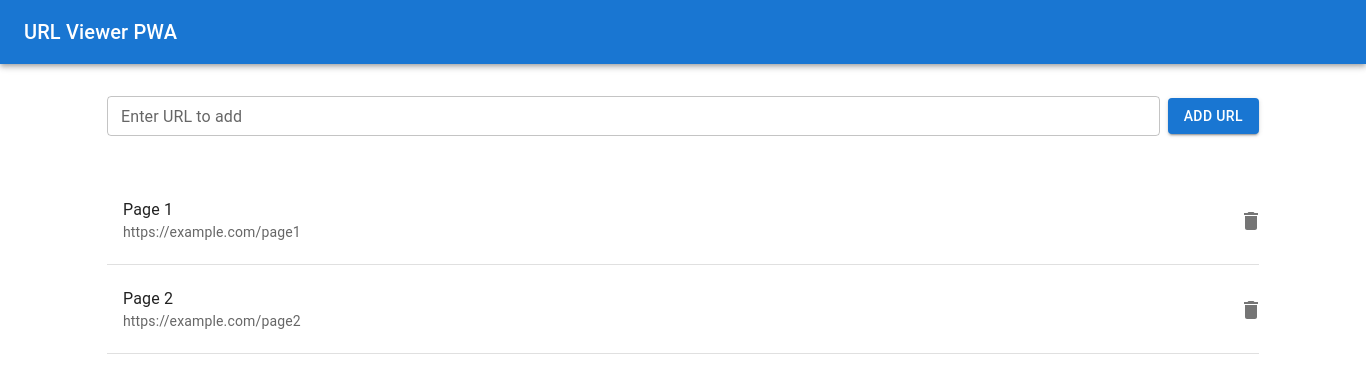
it: App component › renders app title and can add and delete a URL
Expected: the text "URL Viewer PWA" is shown, [24,20,177,44]
Expected: the text "Page 1" is shown, [123,200,173,219]
Step 1. Click the 1st button named "delete url" → [1251, 220], box [1231,200,1271,240]
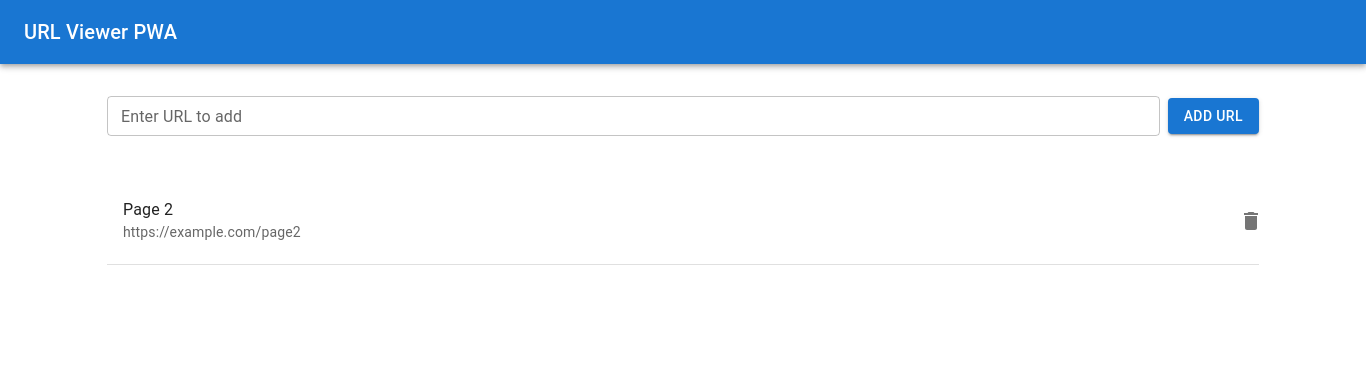
Expected: the text "https://example.com/page2" is shown, [123,224,301,240]
Now the button "Page 1" is gone
Step 2. Type "https://example.com/newpage" into the field labelled "Enter URL to add" → [633, 116], box [107,96,1160,136]
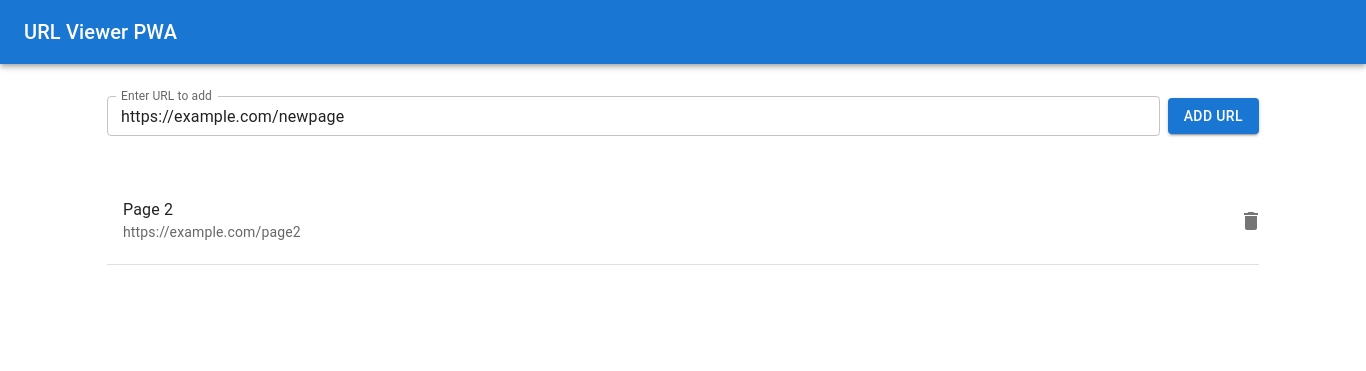
Step 3. Click the button "Add URL" → [1213, 116], box [1168,98,1259,134]
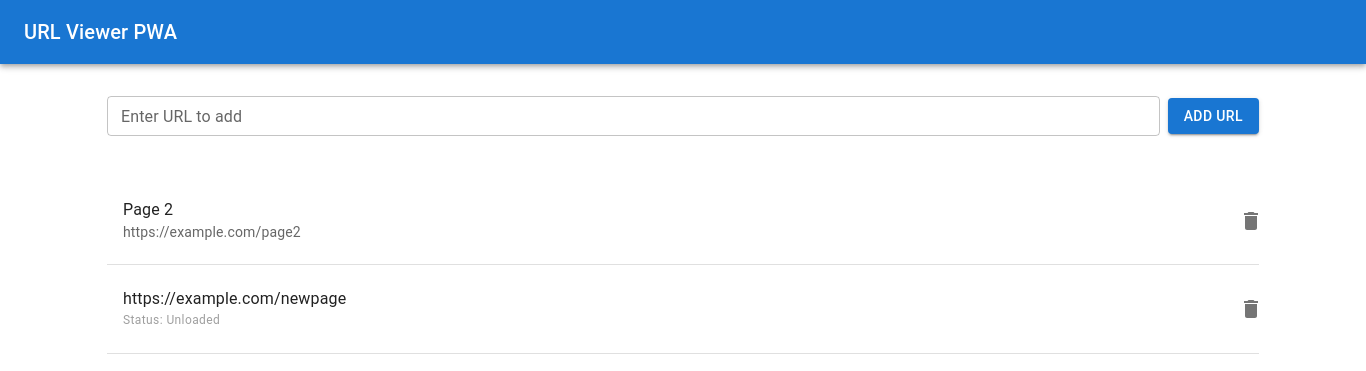
Now the text "https://example.com/newpage" is shown, box [123,289,346,308]
